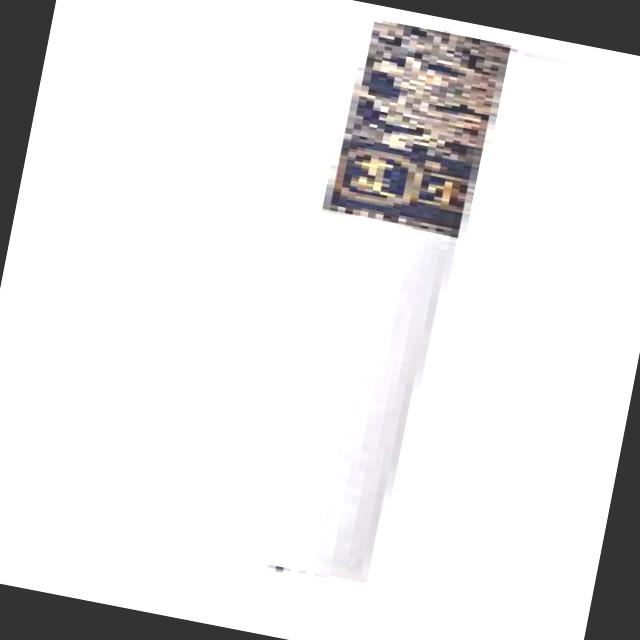smoke: (258, 20, 511, 602)
